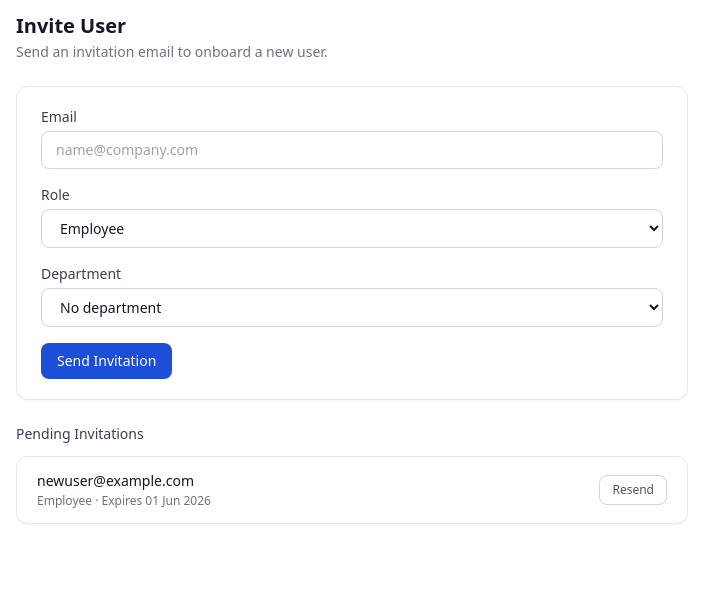
it: InviteUserPage › shows success message after sending invitation
Type "newuser@example.com" into the field with placeholder "name@company.com" at (352, 150), box [41, 131, 663, 169]
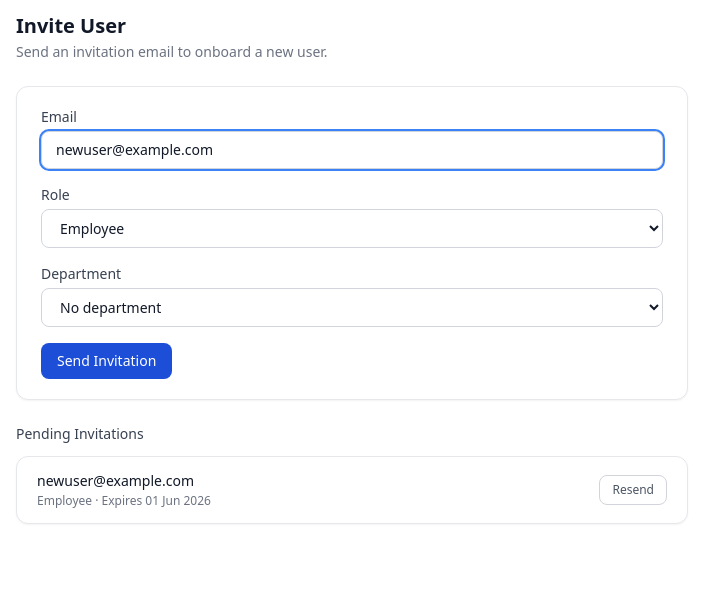
Click the button "Send Invitation" at (107, 361), box [41, 343, 172, 379]
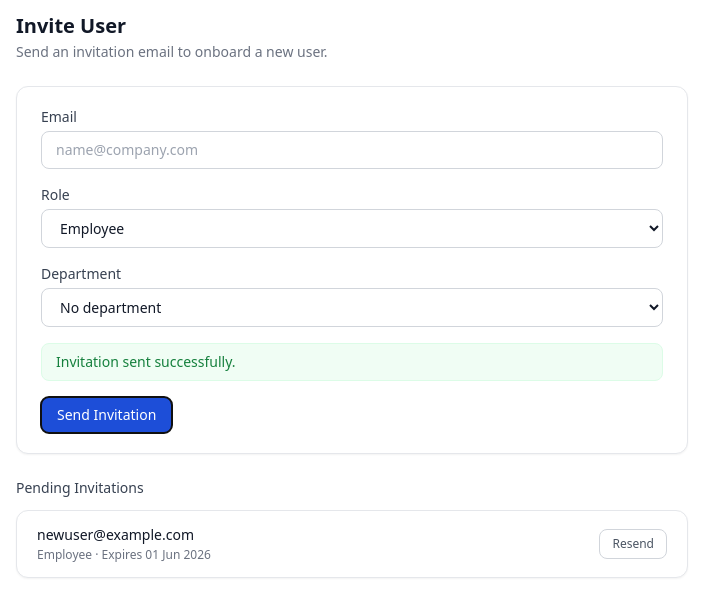
Expected: the text "Invitation sent successfully." is shown, [41, 343, 663, 381]
